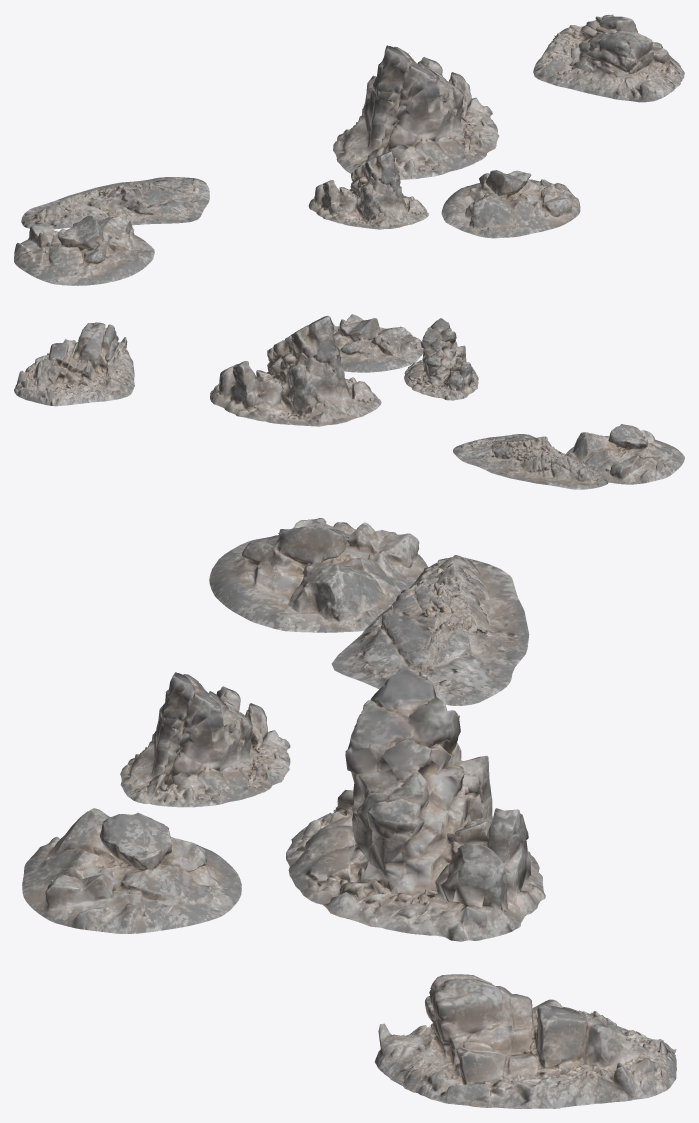
Rendered from coastal_rocks_c.glb.
3 renders of one model, top to bottom at view 1: azimuth 30°, elevation 25°; view 2: azimuth 150°, elevation 25°; view 3: azimuth 270°, elevation 25°, orthographic. The views are drawn at different scales.
Visible parts, largest first — view 1: rock_formation_large_c_LOD0 (×2), rock_formation_mid_c_LOD0 (×2), rock_formation_mid_a_LOD0, rock_formation_mid_d_LOD0; view 2: rock_formation_large_c_LOD0 (×2), rock_formation_mid_c_LOD0 (×2), rock_formation_mid_a_LOD0, rock_formation_mid_d_LOD0; view 3: rock_formation_large_c_LOD0 (×2), rock_formation_mid_c_LOD0 (×2), rock_formation_mid_a_LOD0, rock_formation_mid_d_LOD0.
Boxes of the visible parts, bbox=[...] form: rock_formation_large_c_LOD0 (×2): bbox=[308, 45, 499, 229]; rock_formation_mid_c_LOD0 (×2): bbox=[14, 170, 580, 285]; rock_formation_mid_a_LOD0: bbox=[533, 14, 684, 102]; rock_formation_mid_d_LOD0: bbox=[21, 177, 209, 229]; rock_formation_large_c_LOD0 (×2): bbox=[210, 315, 478, 426]; rock_formation_mid_c_LOD0 (×2): bbox=[332, 314, 684, 484]; rock_formation_mid_a_LOD0: bbox=[14, 322, 134, 406]; rock_formation_mid_d_LOD0: bbox=[453, 434, 608, 489]; rock_formation_large_c_LOD0 (×2): bbox=[120, 667, 545, 941]; rock_formation_mid_c_LOD0 (×2): bbox=[22, 518, 427, 933]; rock_formation_mid_a_LOD0: bbox=[374, 974, 676, 1108]; rock_formation_mid_d_LOD0: bbox=[331, 555, 529, 705].
Bounding box in the file's own units: 42.51 × 6.29 × 20.4.
4 materials, 4 textured.
